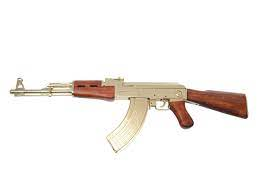gun: (10, 75, 248, 154)
